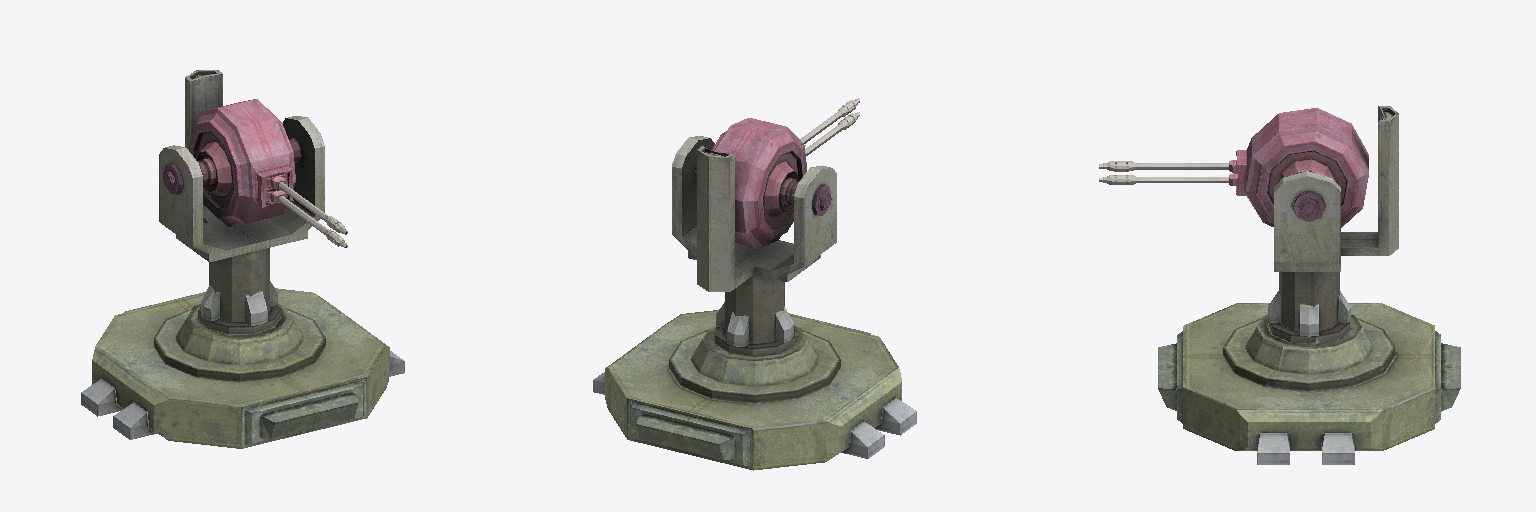
The picture shows the model from 3 angles: view 1: azimuth 30°, elevation 25°; view 2: azimuth 150°, elevation 25°; view 3: azimuth 270°, elevation 25°; orthographic projection.
Visible parts, largest first — view 1: Torreta3_model:Object122; view 2: Torreta3_model:Object122; view 3: Torreta3_model:Object122.
Boxes of the visible parts, <box> form: Torreta3_model:Object122: <box>81,70,404,448</box>; Torreta3_model:Object122: <box>593,98,916,470</box>; Torreta3_model:Object122: <box>1099,106,1460,464</box>.
Size of the model in its own units: 6.08 by 6.01 by 6.93.
Materials: 1 (1 with a texture image).